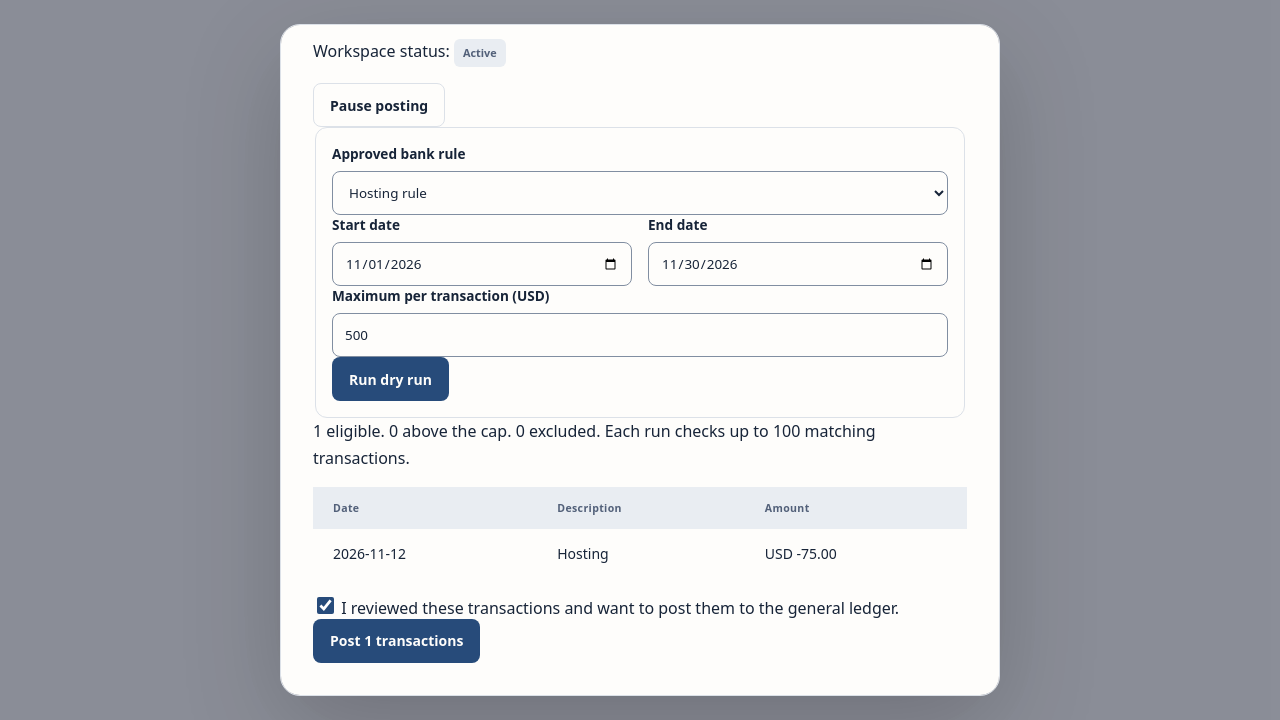
Scenario: posts only after review and sends the exact dry-run scope and fingerprint
Earlier steps of the test are not shown.
(page scrolled)
Click the button "Post 1 transactions". click: (397,641)
box: [313,619,480,663]
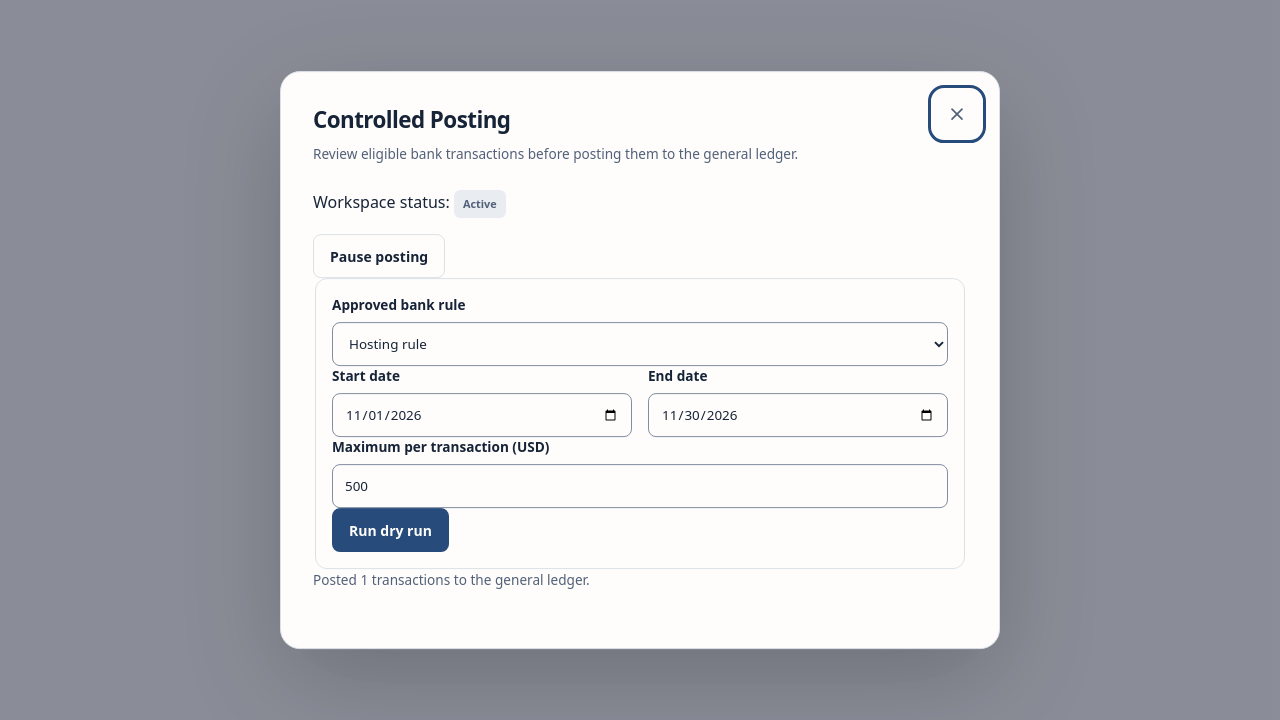
Expected: the text "Posted 1 transactions to the general ledger." is shown, [313,570,590,590]
